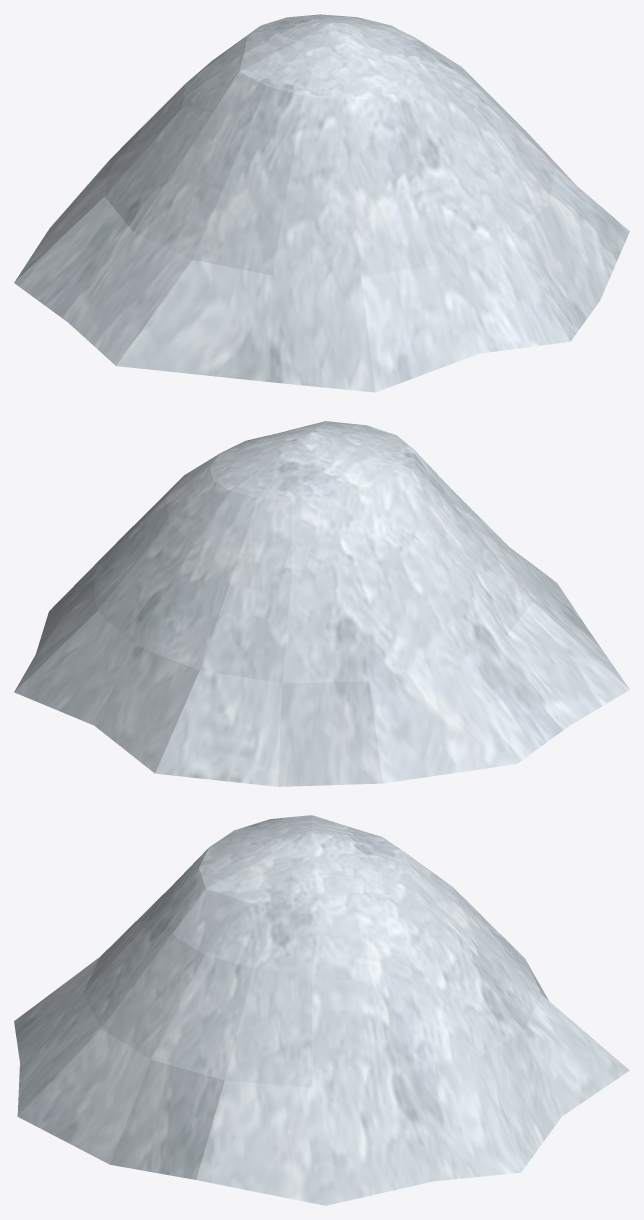
Rendered from saltpile.glb.
3 renders of one model, top to bottom at view 1: azimuth 30°, elevation 25°; view 2: azimuth 150°, elevation 25°; view 3: azimuth 270°, elevation 25°, orthographic. The views are drawn at different scales.
Visible parts, largest first — view 1: Cone; view 2: Cone; view 3: Cone.
Part boxes in pixels (x1,y1,x2,y2): Cone: (14,14,629,392); Cone: (14,421,629,786); Cone: (14,815,629,1205).
Size of the model in its own units: 3.11 by 1.38 by 3.09.
1 material, 1 textured.
